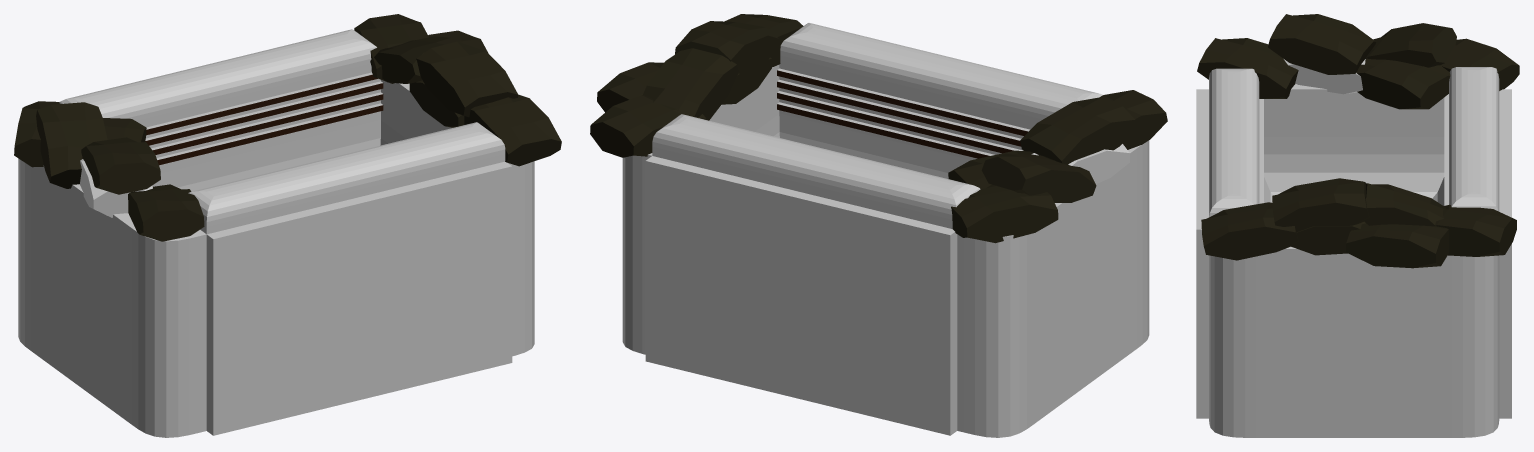
Rendered from Trench.fbx.
The picture shows the model from 3 angles, left to right: view 1: azimuth 30°, elevation 25°; view 2: azimuth 150°, elevation 25°; view 3: azimuth 270°, elevation 25°; orthographic projection. The views are drawn at different scales.
Parts seen in each view (by area): view 1: Cube; view 2: Cube; view 3: Cube.
Part boxes in pixels (left/top/right/bottom): Cube: left=14, top=14, right=561, bottom=437; Cube: left=590, top=14, right=1167, bottom=437; Cube: left=1196, top=14, right=1519, bottom=437.
Bounding box in the file's own units: 361 × 188 × 230.
